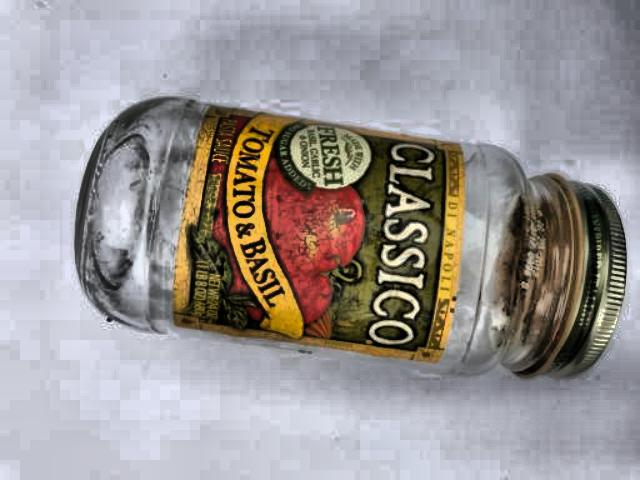Almennt: (64, 76, 640, 405)
